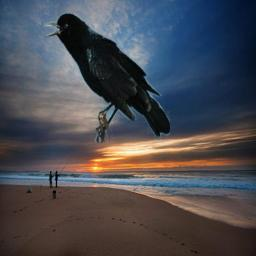Crow: (43, 13, 170, 143)
